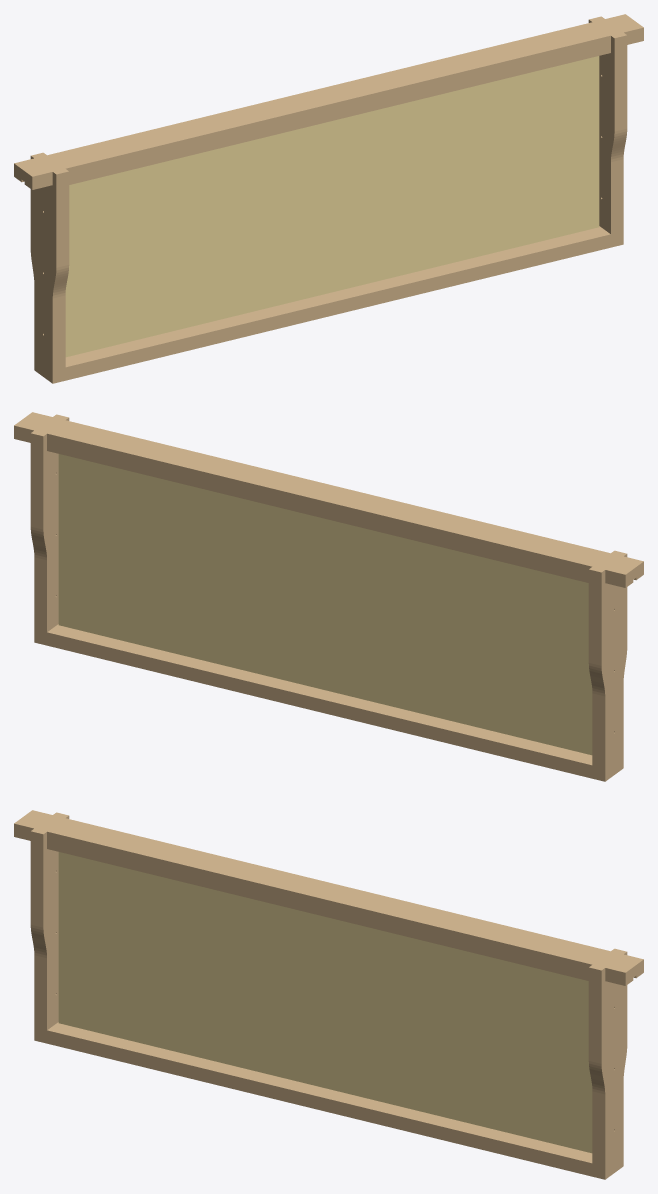
File: farrar.glb
3 views of the same model, one above another, from view 1: azimuth 30°, elevation 25°; view 2: azimuth 150°, elevation 25°; view 3: azimuth 330°, elevation 25° (orthographic).
Parts seen in each view (by area): view 1: Mellanvagg, Overlist, Underlist, Sidolist_V, Sidolist_H; view 2: Mellanvagg, Overlist, Underlist, Sidolist_V, Sidolist_H; view 3: Mellanvagg, Overlist, Underlist, Sidolist_H, Sidolist_V.
Part boxes in pixels (x1=…): Mellanvagg: x1=65, y1=56, x2=599, y2=357; Overlist: x1=14, y1=14, x2=643, y2=189; Underlist: x1=34, y1=226, x2=623, y2=383; Sidolist_V: x1=30, y1=152, x2=69, y2=379; Sidolist_H: x1=588, y1=16, x2=627, y2=234; Mellanvagg: x1=58, y1=454, x2=592, y2=755; Overlist: x1=14, y1=412, x2=643, y2=587; Underlist: x1=34, y1=624, x2=623, y2=781; Sidolist_V: x1=588, y1=550, x2=627, y2=777; Sidolist_H: x1=30, y1=414, x2=69, y2=632; Mellanvagg: x1=58, y1=852, x2=592, y2=1153; Overlist: x1=14, y1=810, x2=643, y2=985; Underlist: x1=34, y1=1022, x2=623, y2=1179; Sidolist_H: x1=588, y1=948, x2=627, y2=1175; Sidolist_V: x1=30, y1=812, x2=69, y2=1030.
Size of the model in its own units: 480 by 159 by 35.
